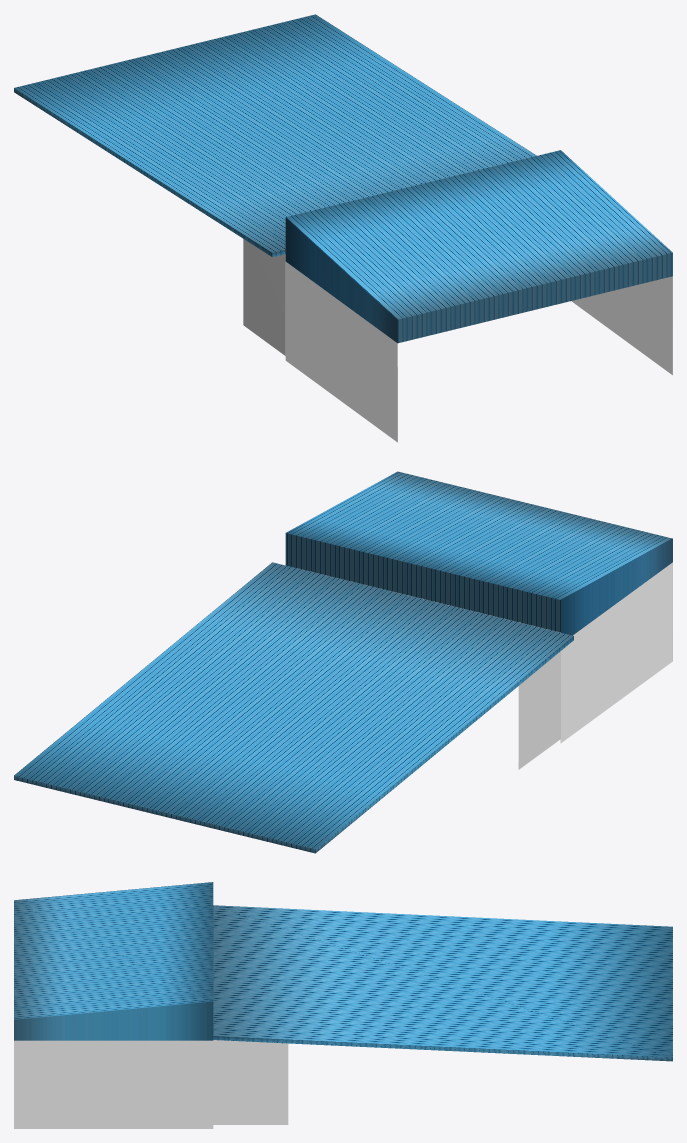
File: warehouse-equipment-ROOF.glb
The picture shows the model from 3 angles, top to bottom: view 1: azimuth 30°, elevation 25°; view 2: azimuth 150°, elevation 25°; view 3: azimuth 270°, elevation 25°; orthographic projection. The views are drawn at different scales.
Visible parts, largest first — view 1: roof; view 2: roof; view 3: roof.
Boxes of the visible parts, x1,y1,x2,y2 form: roof: (14,14,672,442); roof: (14,471,672,853); roof: (14,882,672,1128).
Size of the model in its own units: 14.45 by 6.56 by 30.75.
Materials: 2 (1 with a texture image).
